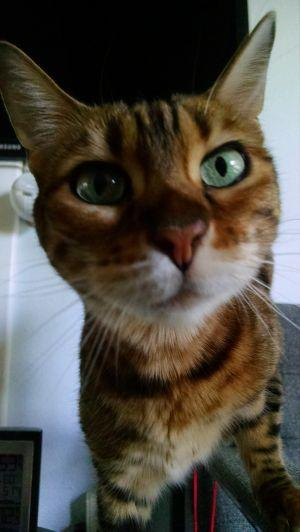bengal: (1, 3, 300, 328)
